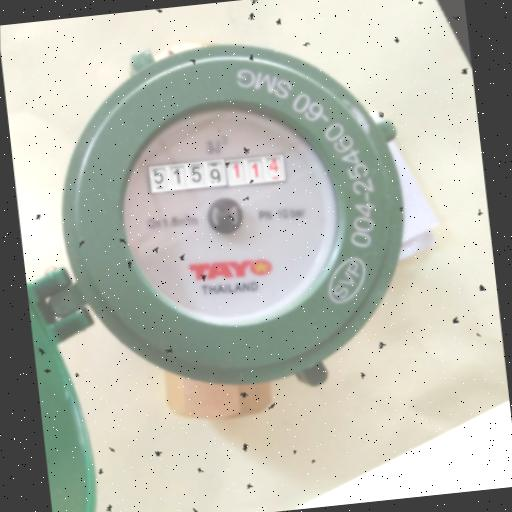1: (170, 167, 186, 188), (228, 161, 244, 182), (247, 159, 263, 180)
4: (265, 158, 281, 180)
5: (151, 168, 167, 190), (187, 165, 203, 186)
9: (207, 162, 223, 184)
border_water_meter_number: (145, 151, 287, 198)
